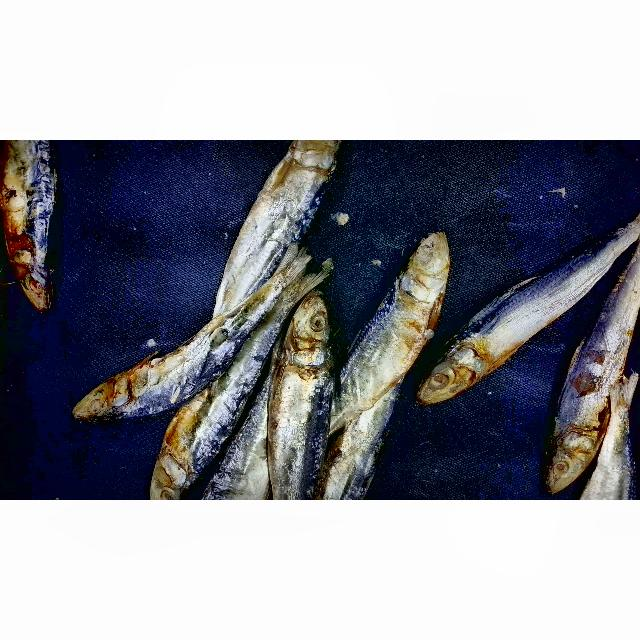Grade_B_Body: (486, 241, 606, 367), (153, 306, 244, 423), (220, 167, 325, 264), (266, 363, 337, 494), (341, 287, 413, 415), (0, 140, 72, 228)
Grade_B_Head: (414, 339, 501, 421), (57, 364, 140, 437), (388, 230, 468, 305), (536, 418, 609, 496), (0, 247, 72, 318), (276, 291, 345, 364), (134, 447, 202, 500)
Grade_B_Tail: (581, 377, 640, 500), (231, 238, 309, 329)
